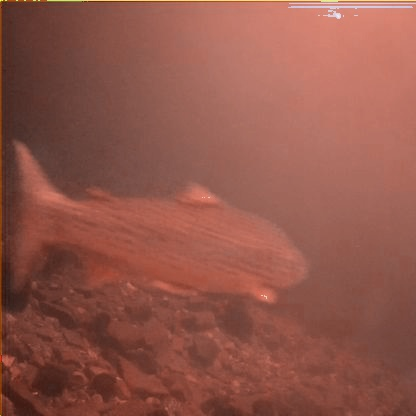salmon: (7, 132, 314, 309)
